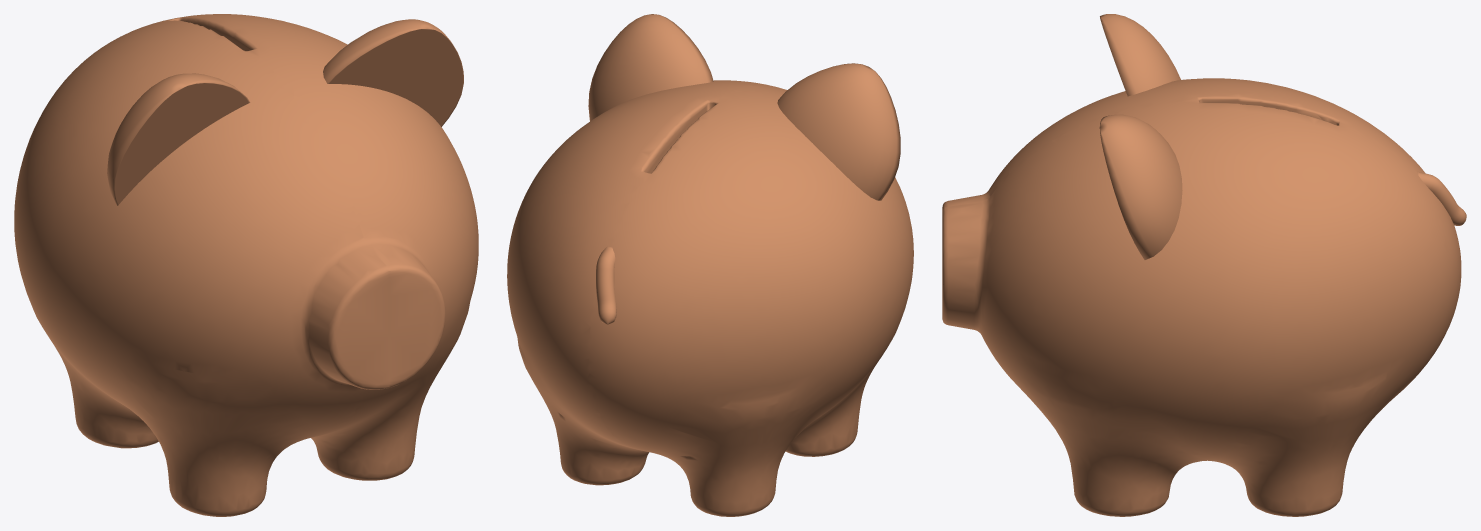
File: alcancia_s.glb
The picture shows the model from 3 angles, left to right: view 1: azimuth 30°, elevation 25°; view 2: azimuth 150°, elevation 25°; view 3: azimuth 270°, elevation 25°; orthographic projection. The views are drawn at different scales.
Visible parts, largest first — view 1: cuerpo, oreja_izq, oreja_der; view 2: cuerpo, oreja_der, oreja_izq, cola; view 3: cuerpo, oreja_izq, oreja_der, cola.
Part boxes in pixels (box(x1,y1,x2,y2)): cuerpo: box(14, 14, 478, 516); oreja_izq: box(323, 19, 463, 126); oreja_der: box(107, 73, 250, 205); cuerpo: box(507, 80, 913, 516); oreja_der: box(777, 63, 900, 200); oreja_izq: box(588, 14, 713, 121); cola: box(596, 246, 616, 324); cuerpo: box(942, 78, 1461, 516); oreja_izq: box(1099, 114, 1182, 259); oreja_der: box(1100, 14, 1180, 96); cola: box(1417, 171, 1466, 225).
Size of the model in its own units: 0.1008 by 0.1074 by 0.1275.
